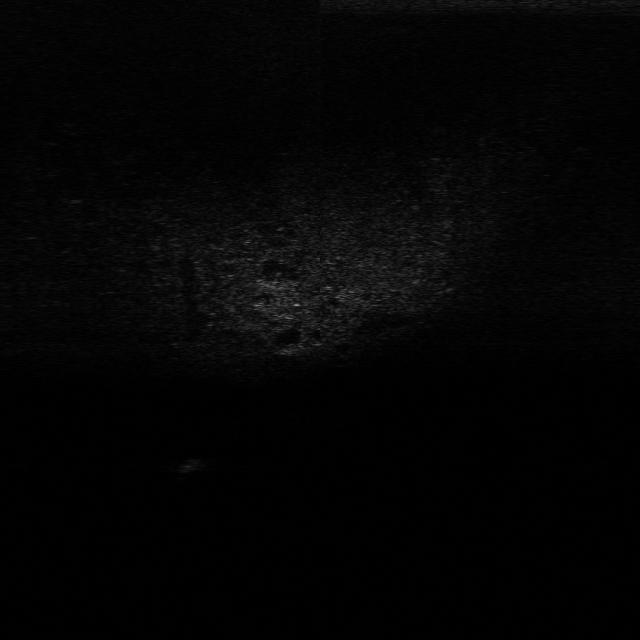cylinder: (163, 452, 208, 477)
